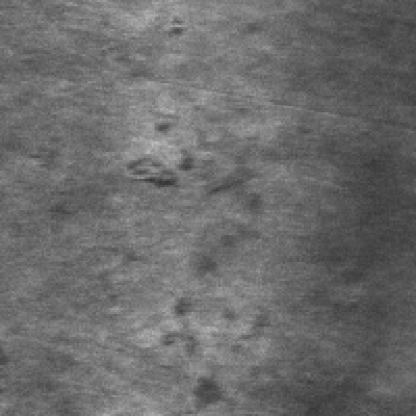rolled-in_scale: (131, 114, 264, 412)
